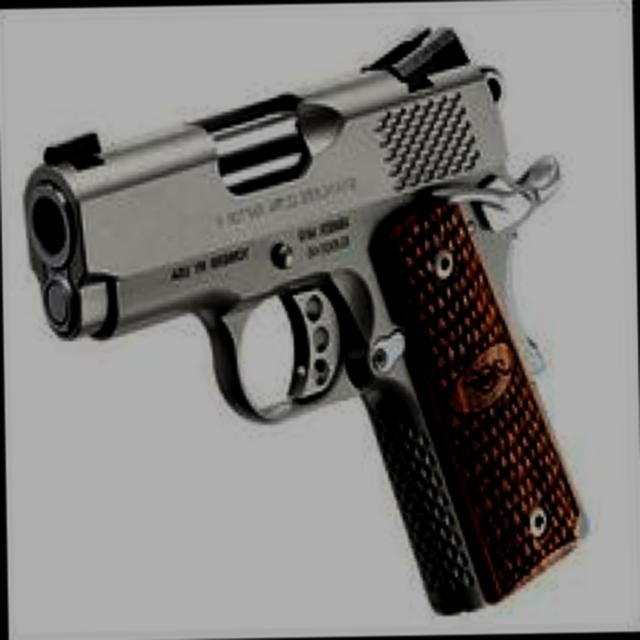semi automatic: (11, 13, 597, 632)
